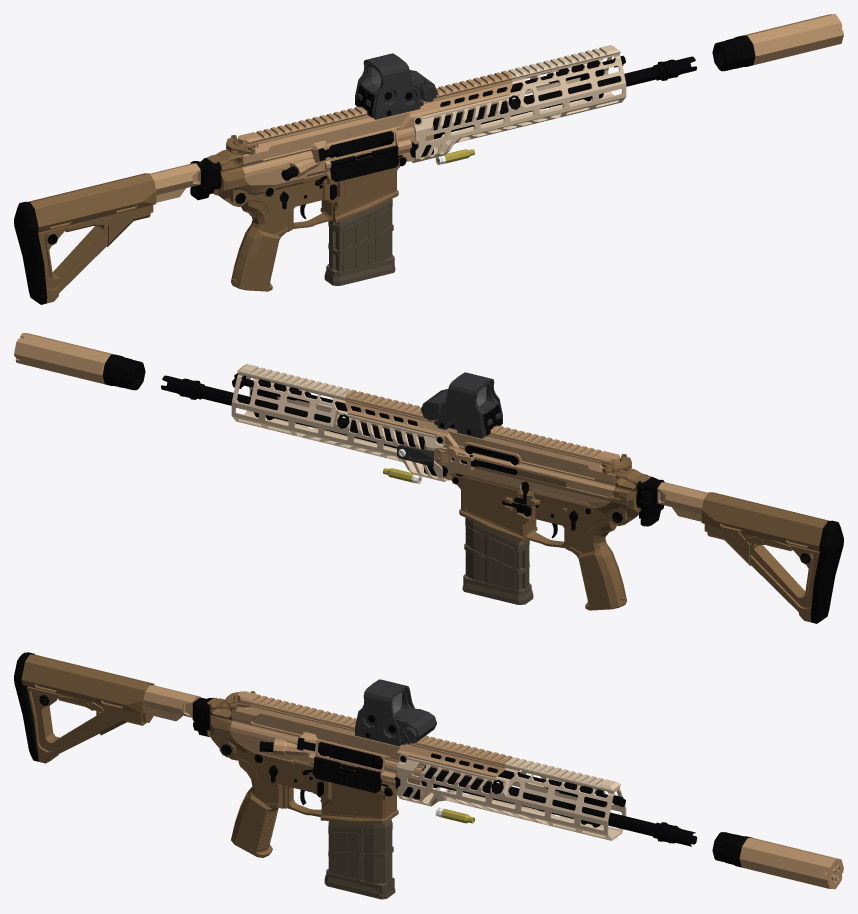
File: spear.glb
3 views of the same model, one above another, from view 1: azimuth 30°, elevation 25°; view 2: azimuth 150°, elevation 25°; view 3: azimuth 330°, elevation 25° (orthographic).
Parts seen in each view (by area): view 1: sig mcx spear_15, mcx srock butt_13, 277 ar-10 mag 30rnd (lancer).001_1, 6.8 slx suppressor_19, eotech xps2_18, sig mcx spear.001_20, mcx srock tube_11, mcx spear shutter_4, mcx bolt carrier_3, mcx stock base_12, mcx muzzle brake&sup adapter_14; view 2: sig mcx spear_15, mcx srock butt_13, 277 ar-10 mag 30rnd (lancer).001_1, 6.8 slx suppressor_19, eotech xps2_18, sig mcx spear.001_20, mcx srock tube_11, mcx reload handle base_16, mcx muzzle brake&sup adapter_14, mcx stock base_12; view 3: sig mcx spear_15, mcx srock butt_13, 277 ar-10 mag 30rnd (lancer).001_1, 6.8 slx suppressor_19, eotech xps2_18, sig mcx spear.001_20, mcx srock tube_11, mcx spear shutter_4, mcx bolt carrier_3, mcx muzzle brake&sup adapter_14, mcx stock base_12.
Part boxes in pixels (left/top/right/bottom): sig mcx spear_15: left=207, top=45, right=659, bottom=289; mcx srock butt_13: left=14, top=173, right=156, bottom=304; 277 ar-10 mag 30rnd (lancer).001_1: left=324, top=156, right=395, bottom=285; 6.8 slx suppressor_19: left=712, top=14, right=843, bottom=71; eotech xps2_18: left=355, top=53, right=437, bottom=119; sig mcx spear.001_20: left=231, top=201, right=289, bottom=291; mcx srock tube_11: left=150, top=161, right=209, bottom=202; mcx spear shutter_4: left=330, top=145, right=399, bottom=181; mcx bolt carrier_3: left=329, top=83, right=520, bottom=158; mcx stock base_12: left=190, top=156, right=221, bottom=200; mcx muzzle brake&sup adapter_14: left=653, top=56, right=696, bottom=80; sig mcx spear_15: left=198, top=364, right=650, bottom=608; mcx srock butt_13: left=701, top=492, right=843, bottom=623; 277 ar-10 mag 30rnd (lancer).001_1: left=462, top=518, right=533, bottom=604; 6.8 slx suppressor_19: left=14, top=333, right=145, bottom=390; eotech xps2_18: left=421, top=372, right=502, bottom=438; sig mcx spear.001_20: left=568, top=520, right=626, bottom=610; mcx srock tube_11: left=639, top=479, right=707, bottom=521; mcx reload handle base_16: left=451, top=458, right=566, bottom=486; mcx muzzle brake&sup adapter_14: left=161, top=375, right=204, bottom=399; mcx stock base_12: left=636, top=475, right=664, bottom=526; sig mcx spear_15: left=207, top=691, right=655, bottom=857; mcx srock butt_13: left=14, top=652, right=154, bottom=763; 277 ar-10 mag 30rnd (lancer).001_1: left=324, top=819, right=395, bottom=899; 6.8 slx suppressor_19: left=712, top=832, right=843, bottom=889; eotech xps2_18: left=355, top=679, right=436, bottom=746; sig mcx spear.001_20: left=231, top=758, right=282, bottom=857; mcx srock tube_11: left=143, top=685, right=210, bottom=726; mcx spear shutter_4: left=313, top=756, right=394, bottom=793; mcx bolt carrier_3: left=318, top=742, right=520, bottom=779; mcx muzzle brake&sup adapter_14: left=653, top=822, right=697, bottom=846; mcx stock base_12: left=193, top=697, right=218, bottom=736.
Size of the model in its own units: 11.66 by 2.84 by 0.6668.
